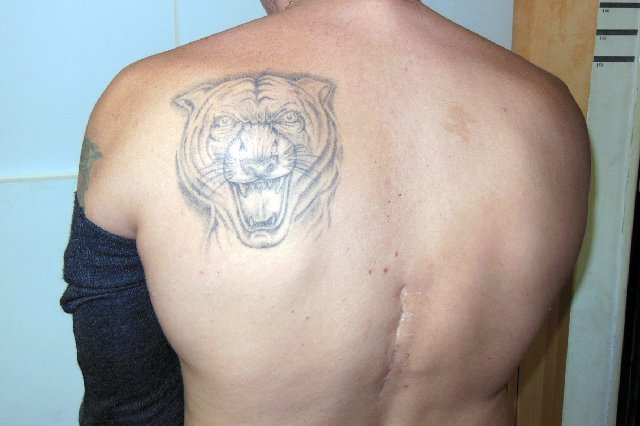tatu5_tigr: (164, 72, 344, 254)
